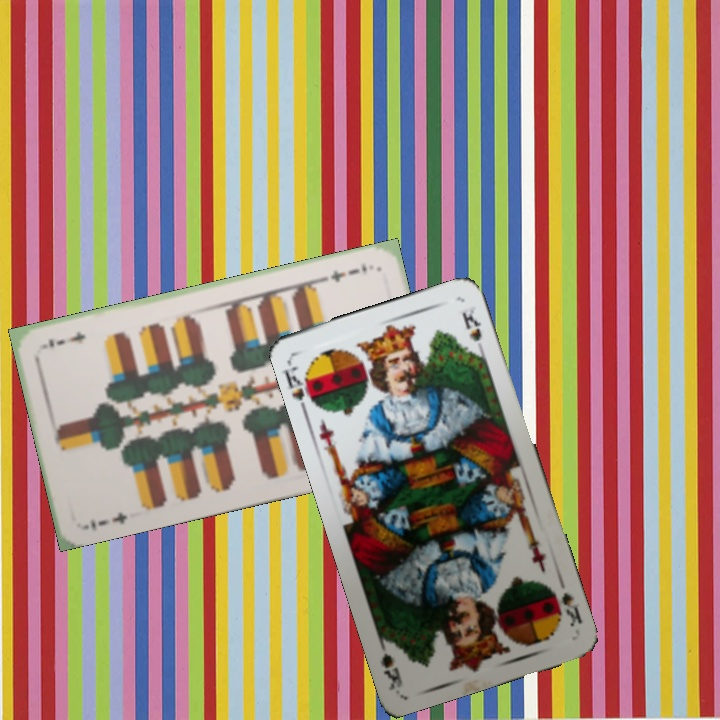E7: (319, 258, 370, 285), (86, 508, 130, 534)
SK: (281, 362, 321, 415), (558, 588, 585, 630)
